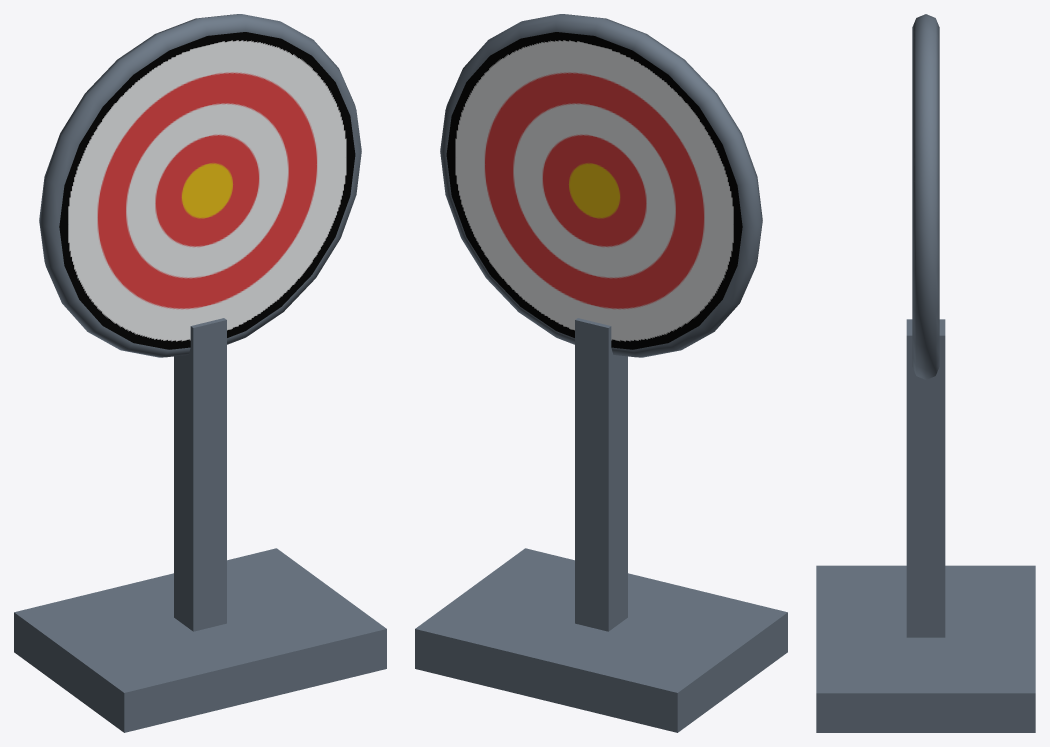
The model's file is target_practice_dummy.glb.
The picture shows the model from 3 angles, left to right: view 1: azimuth 30°, elevation 25°; view 2: azimuth 150°, elevation 25°; view 3: azimuth 270°, elevation 25°; orthographic projection.
Visible parts, largest first — view 1: target_pivot, target_practice_dummy; view 2: target_pivot, target_practice_dummy; view 3: target_practice_dummy, target_pivot.
Part boxes in pixels (box(x1,y1,x2,y2)): target_pivot: box(39, 14, 361, 357); target_practice_dummy: box(14, 318, 386, 732); target_pivot: box(440, 14, 762, 357); target_practice_dummy: box(415, 318, 787, 732); target_practice_dummy: box(816, 319, 1035, 732); target_pivot: box(912, 14, 939, 379).
Size of the model in its own units: 1.34 by 2.57 by 0.8.
2 materials, 1 textured.
